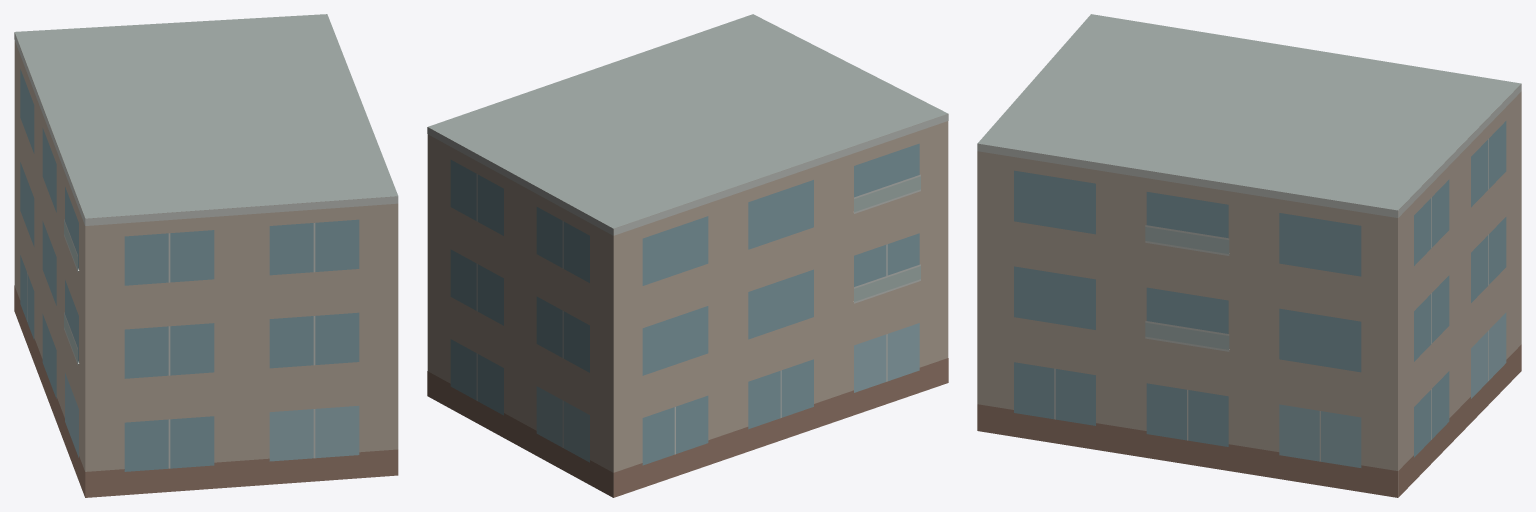
File: survey-upis-32692883.glb
3 views of the same model, side by side, from view 1: azimuth 30°, elevation 25°; view 2: azimuth 150°, elevation 25°; view 3: azimuth 270°, elevation 25° (orthographic). The views are drawn at different scales.
Parts seen in each view (by area): view 1: survey-upis-32692883.tmp; view 2: survey-upis-32692883.tmp; view 3: survey-upis-32692883.tmp.
Boxes of the visible parts, <box> form: survey-upis-32692883.tmp: <box>14,14,398,497</box>; survey-upis-32692883.tmp: <box>427,14,948,497</box>; survey-upis-32692883.tmp: <box>977,14,1521,497</box>.
Bounding box in the file's own units: 13.43 × 9.15 × 15.71.
